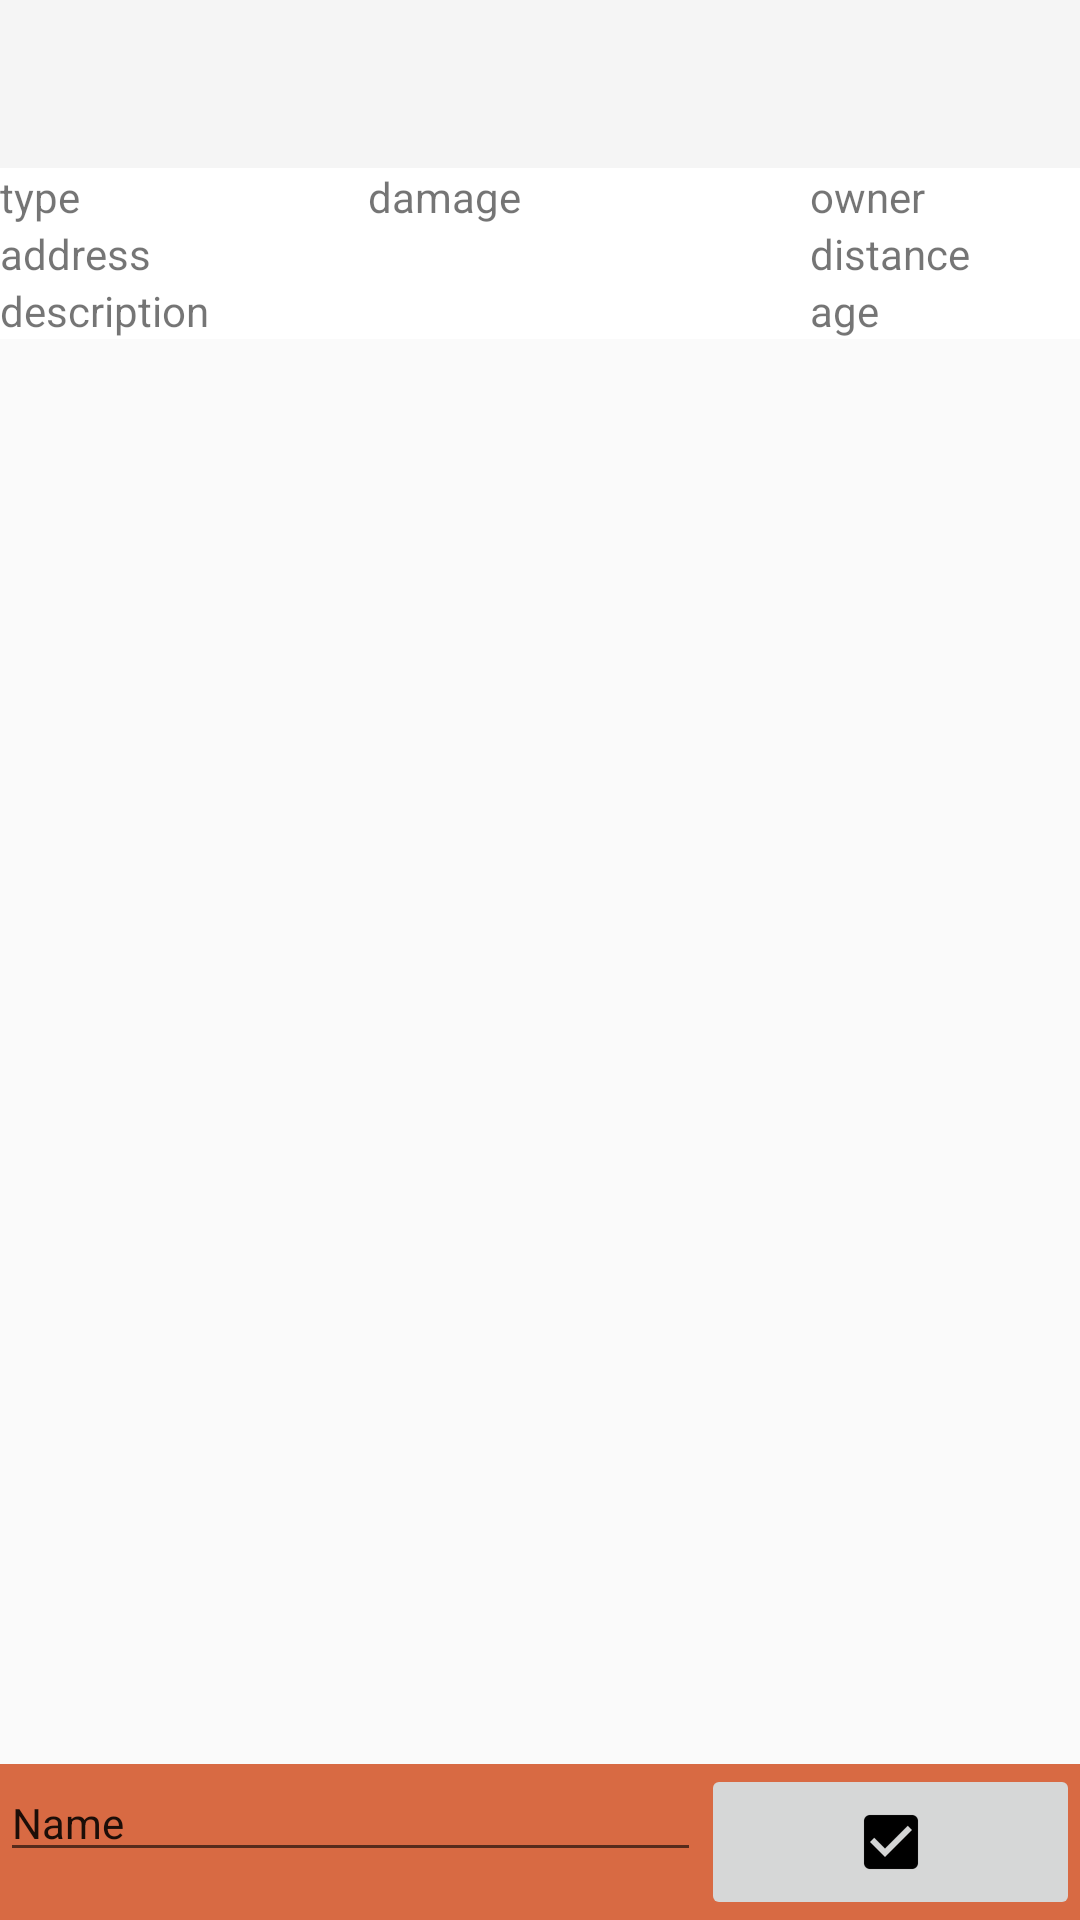

Icon click points for this 1080 × 1920 phone screenshot, format point (x, y):
check to on: point (890, 1842)
